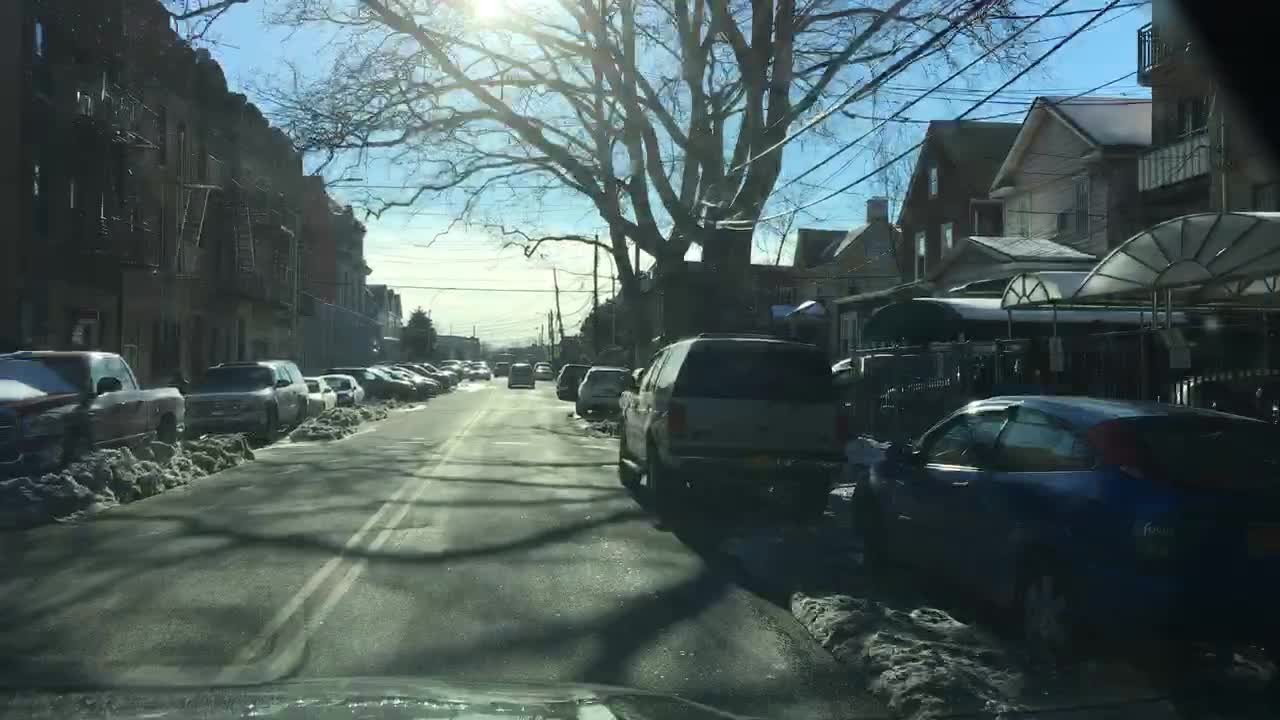car: (864, 395, 1275, 685), (618, 338, 855, 530), (181, 359, 307, 446), (833, 348, 936, 436), (577, 366, 637, 423), (324, 367, 420, 401), (322, 364, 364, 402), (397, 362, 453, 390), (305, 373, 338, 416), (415, 362, 459, 387), (558, 364, 588, 399), (508, 366, 532, 390), (467, 366, 492, 380), (439, 359, 462, 374), (534, 362, 553, 380), (494, 362, 508, 376), (459, 359, 473, 371), (471, 360, 487, 367)
truck: (1, 350, 186, 478)
